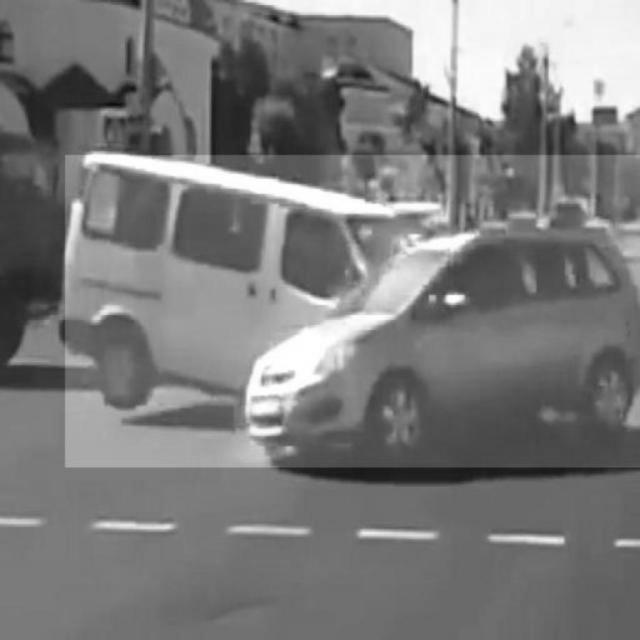accident: (65, 156, 639, 468)
